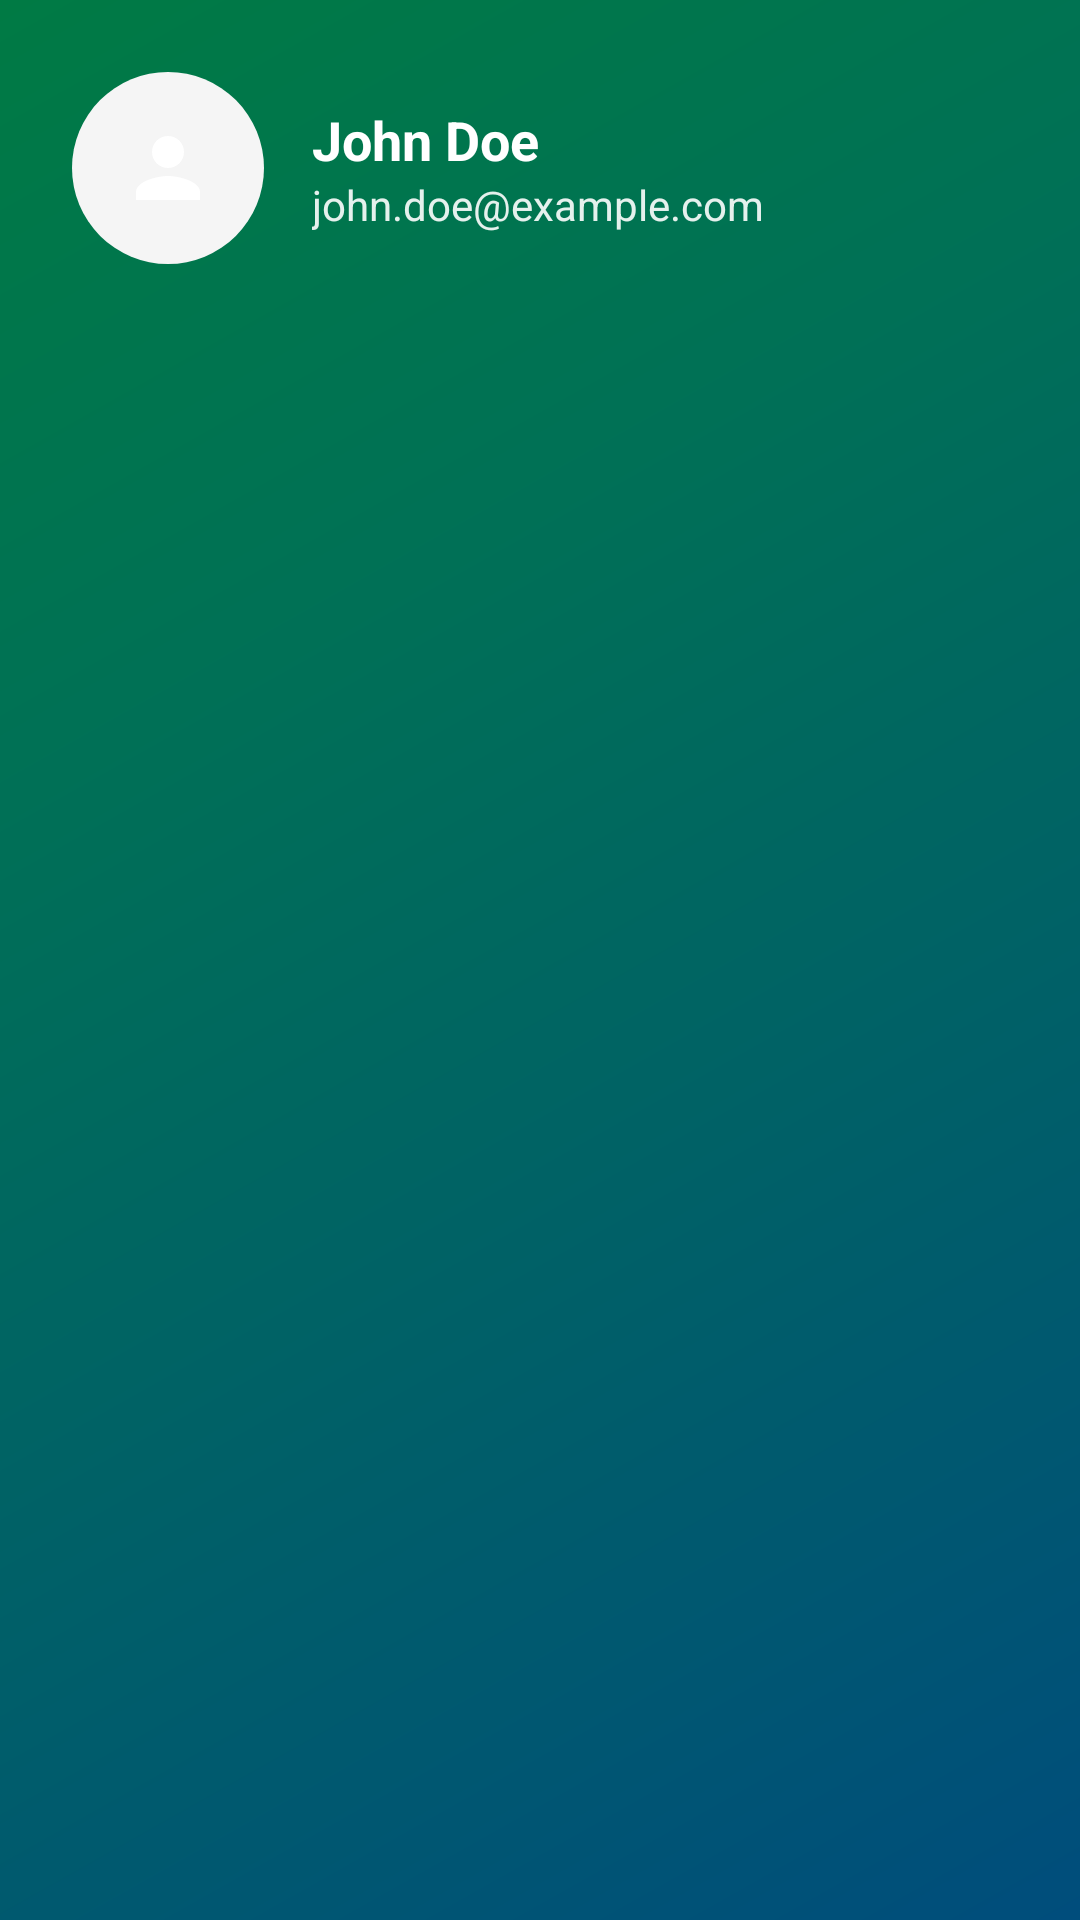

Where icons sit on this 1080px×1920px app screen, as (x1, y1, x2, y2):
person: (72, 72, 264, 264)
